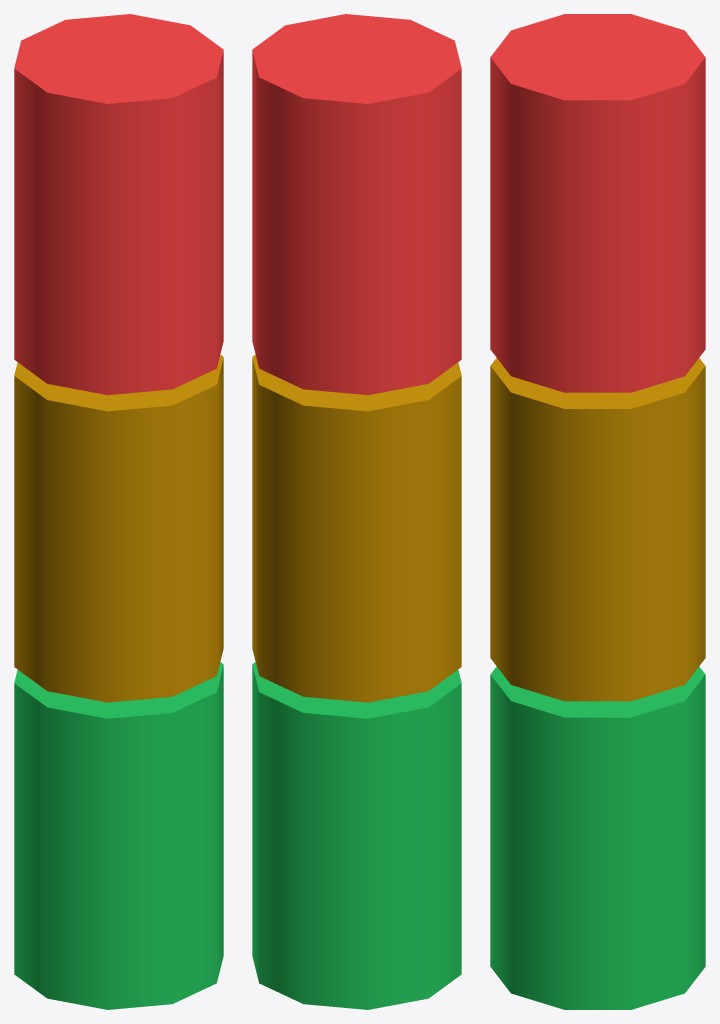
3 views of the same model, side by side, from view 1: azimuth 30°, elevation 25°; view 2: azimuth 150°, elevation 25°; view 3: azimuth 270°, elevation 25° (orthographic).
Parts seen in each view (by area): view 1: red, amber, green; view 2: red, amber, green; view 3: red, amber, green.
Boxes of the visible parts, x1,y1,x2,y2 form: red: (14, 14, 223, 395); amber: (14, 355, 223, 702); green: (14, 662, 223, 1009); red: (252, 14, 461, 395); amber: (252, 355, 461, 702); green: (252, 662, 461, 1009); red: (490, 14, 705, 392); amber: (490, 358, 705, 701); green: (490, 666, 705, 1009).
Size of the model in its own units: 0.1141 by 0.56 by 0.12.
